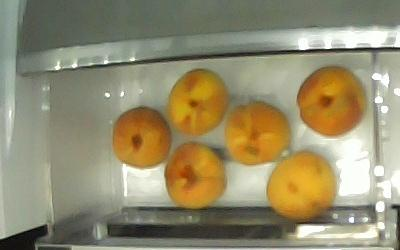peach: (296, 66, 365, 137), (265, 152, 336, 220), (165, 69, 228, 136), (227, 102, 289, 166), (166, 143, 226, 209), (112, 108, 169, 166)
